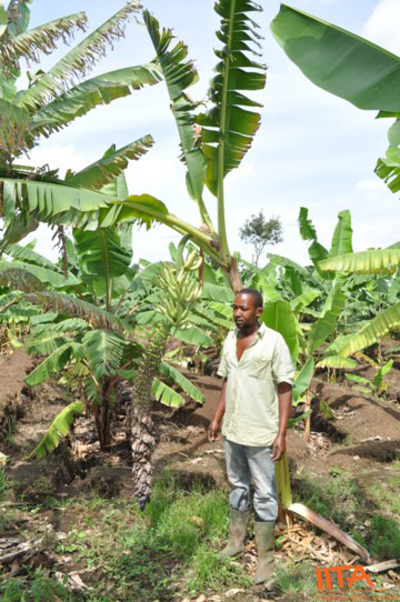bananaHand: (153, 246, 212, 329)
